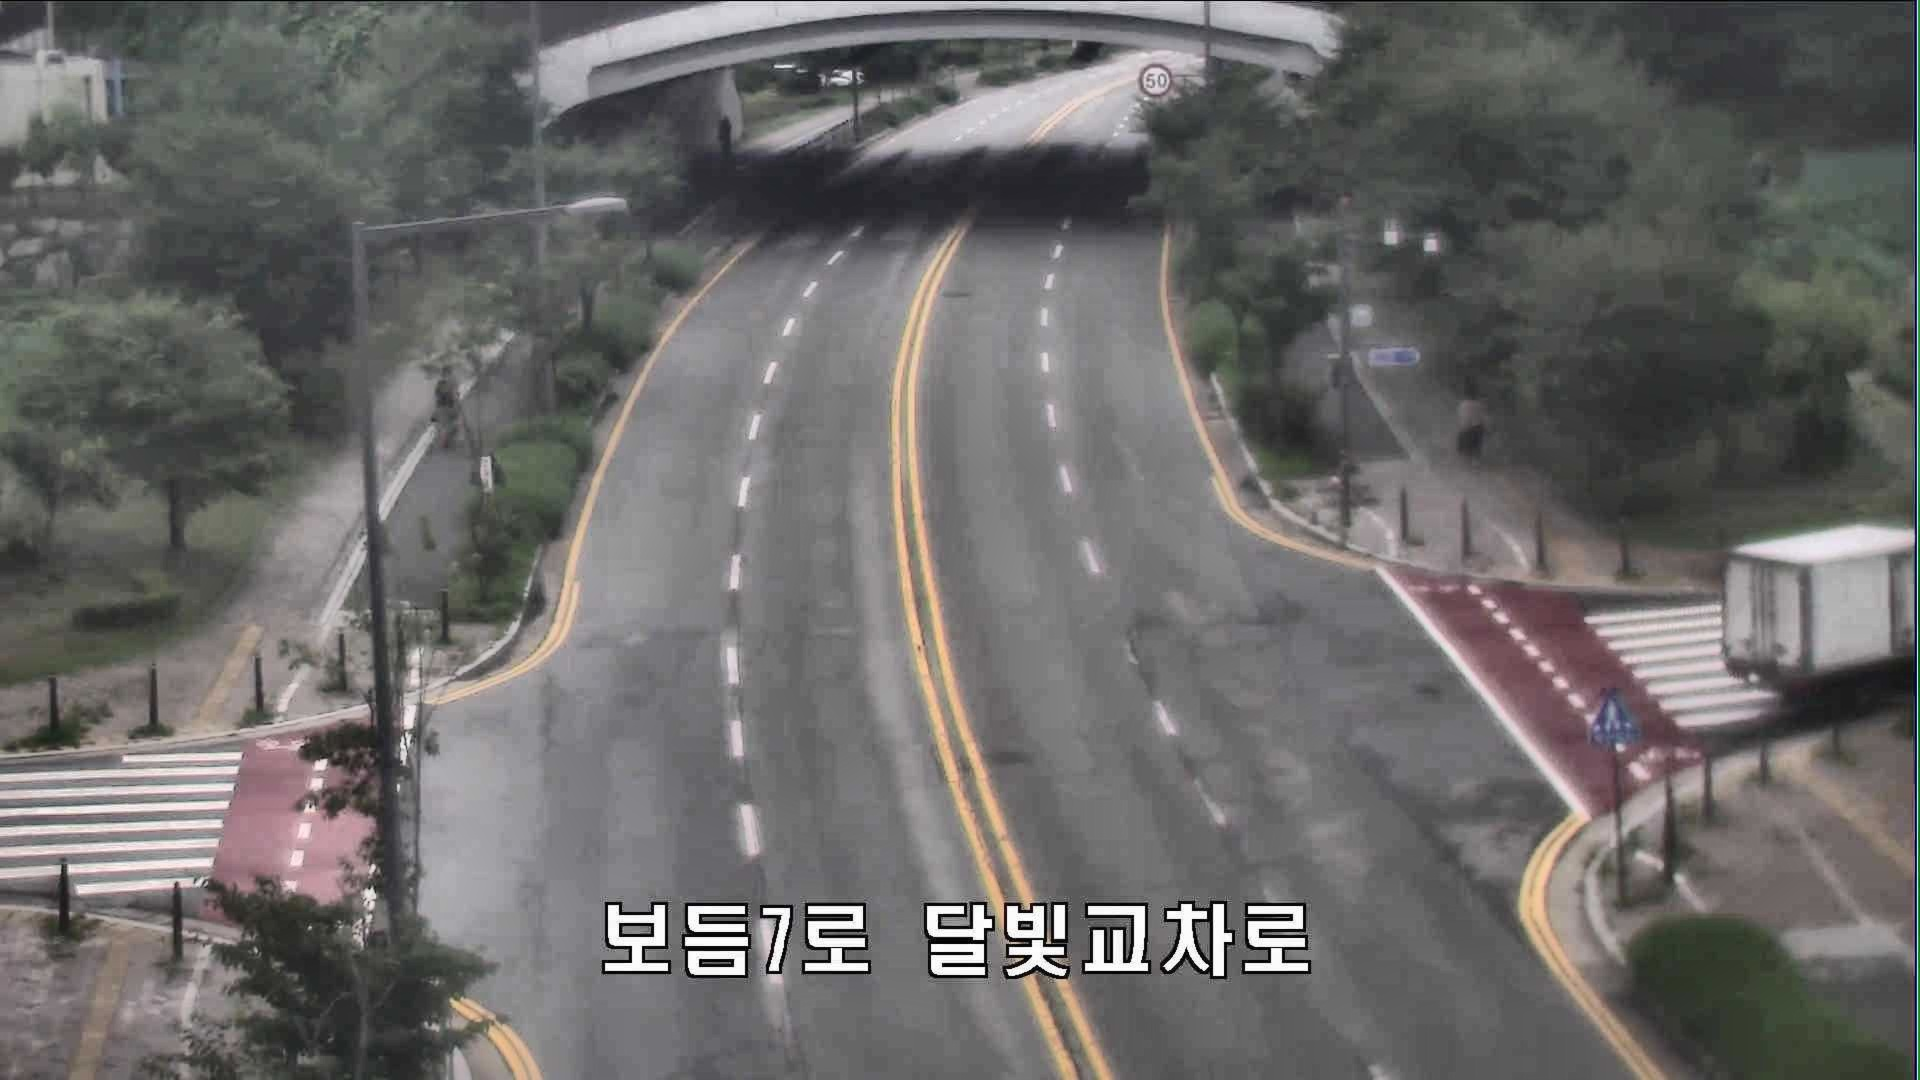sidewalk: (433, 363, 463, 448), (1455, 382, 1486, 462)
